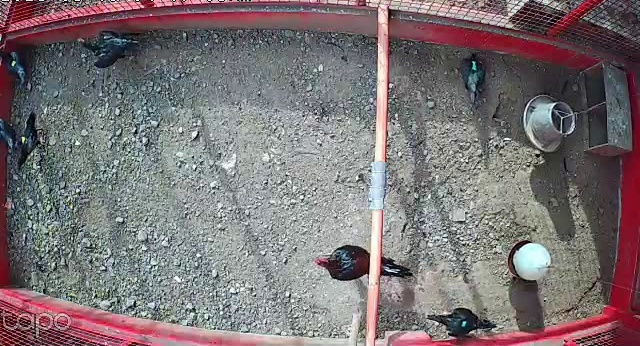Chicken: (76, 27, 141, 69), (427, 303, 500, 339), (14, 110, 47, 173), (457, 49, 486, 103), (0, 47, 34, 87)
Rooster: (311, 240, 416, 286)
Saddle_Color_Yellow: (21, 136, 28, 144), (12, 60, 17, 66)
